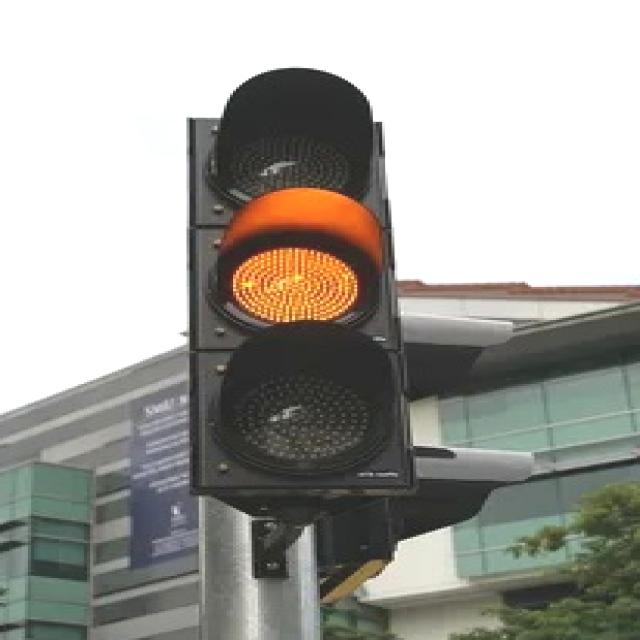sari: (191, 67, 415, 498)
